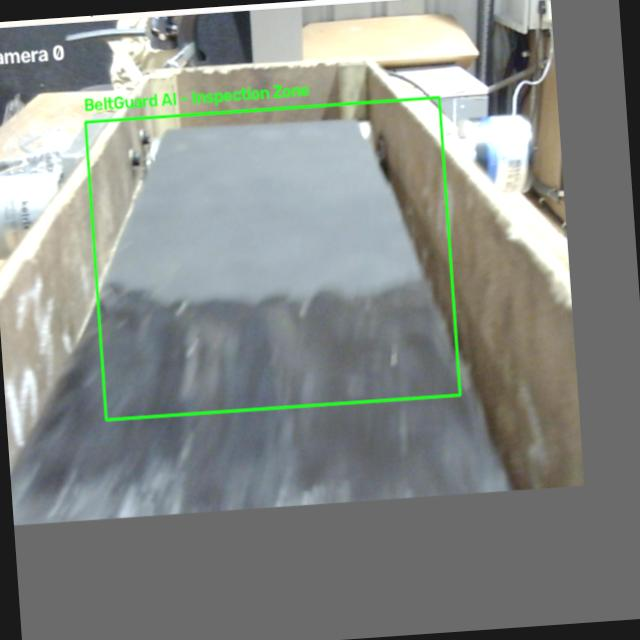Joint_Damage: (10, 323, 509, 523), (100, 281, 454, 415)
